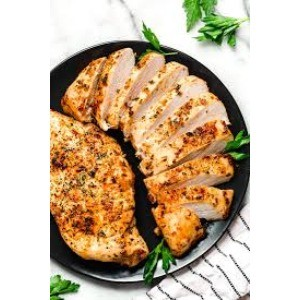chicken breast_brain food: (62, 176, 120, 242), (129, 82, 195, 138)
